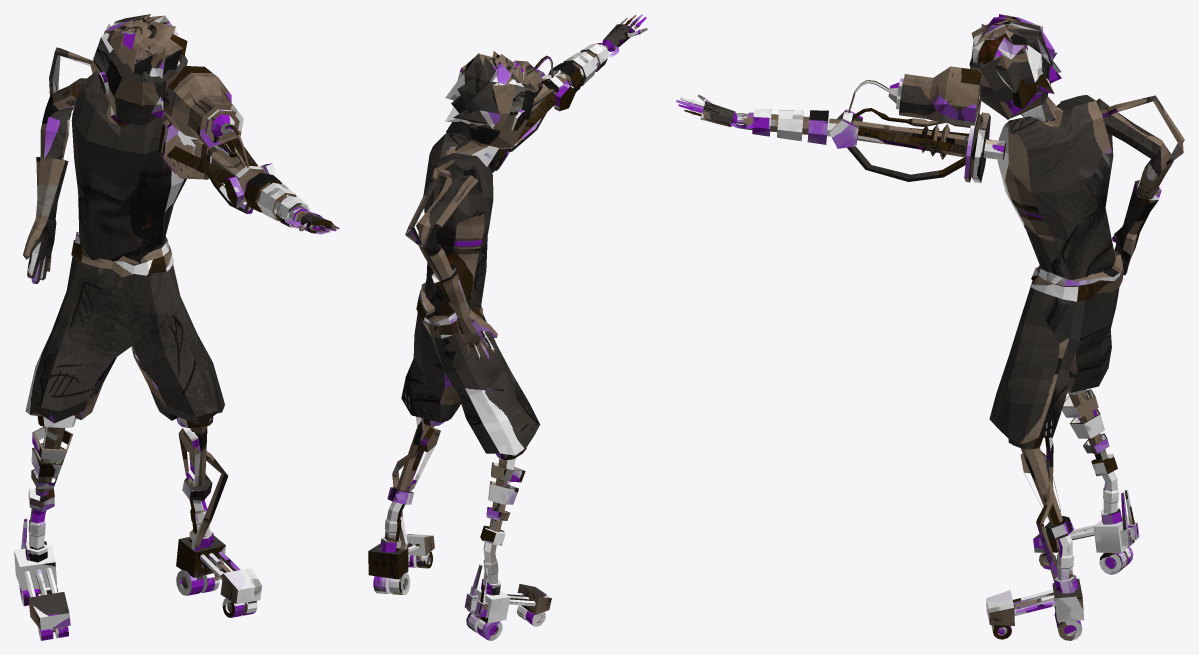
File: CyborgFINALAnimation_000104.obj
The picture shows the model from 3 angles, left to right: view 1: azimuth 30°, elevation 25°; view 2: azimuth 150°, elevation 25°; view 3: azimuth 270°, elevation 25°; orthographic projection. The views are drawn at different scales.
Parts seen in each view (by area): view 1: CyborgMesh_Cube.002; view 2: CyborgMesh_Cube.002; view 3: CyborgMesh_Cube.002.
Part boxes in pixels (x1,y1,x2,y2): CyborgMesh_Cube.002: [14, 14, 339, 640]; CyborgMesh_Cube.002: [368, 14, 647, 640]; CyborgMesh_Cube.002: [676, 14, 1184, 640].
Size of the model in its own units: 3.12 by 9.43 by 7.52.
